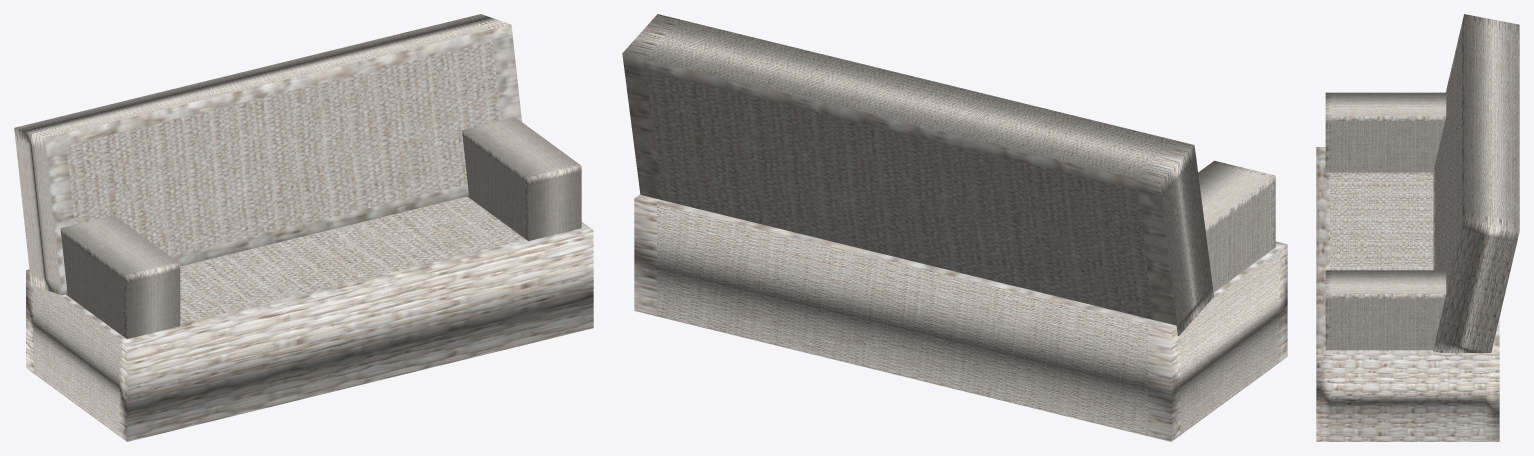
The model's file is sofa.glb.
The picture shows the model from 3 angles, left to right: view 1: azimuth 30°, elevation 25°; view 2: azimuth 150°, elevation 25°; view 3: azimuth 270°, elevation 25°; orthographic projection. The views are drawn at different scales.
Visible parts, largest first — view 1: Cube.001, Cube, Cube.003, Cube.002; view 2: Cube.001, Cube, Cube.003; view 3: Cube, Cube.001, Cube.003, Cube.002.
Boxes of the visible parts, x1,y1,x2,y2 form: Cube.001: (14, 14, 521, 295); Cube: (26, 196, 593, 441); Cube.003: (60, 215, 180, 338); Cube.002: (462, 117, 581, 241); Cube.001: (622, 14, 1213, 336); Cube: (634, 194, 1287, 441); Cube.003: (1198, 160, 1275, 292); Cube: (1316, 147, 1499, 441); Cube.001: (1433, 14, 1519, 352); Cube.003: (1325, 92, 1446, 172); Cube.002: (1325, 270, 1446, 350).
Size of the model in its own units: 10.01 by 4.99 by 4.17.
1 material, 1 textured.
